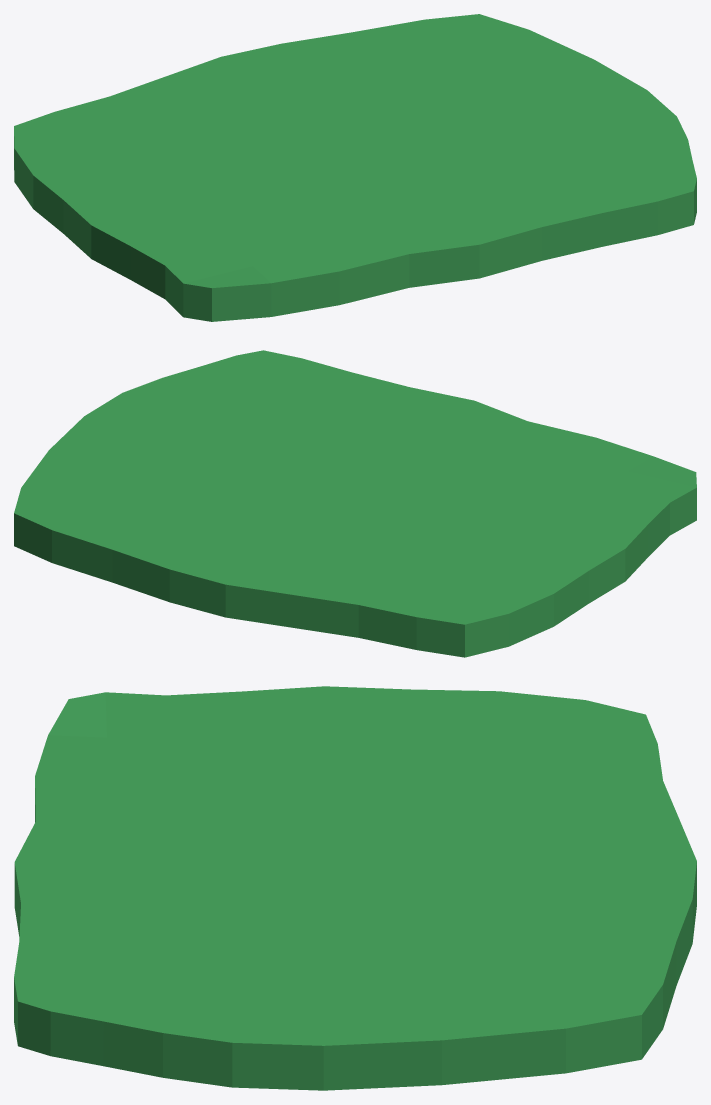
The model's file is Pud.fbx.
3 views of the same model, one above another, from view 1: azimuth 30°, elevation 25°; view 2: azimuth 150°, elevation 25°; view 3: azimuth 270°, elevation 25° (orthographic). The views are drawn at different scales.
Parts seen in each view (by area): view 1: Plane; view 2: Plane; view 3: Plane.
Boxes of the visible parts, left/top/right/bottom form: Plane: left=14, top=14, right=696, bottom=321; Plane: left=14, top=350, right=696, bottom=657; Plane: left=14, top=686, right=696, bottom=1090.
Bounding box in the file's own units: 126 × 7.73 × 101.
